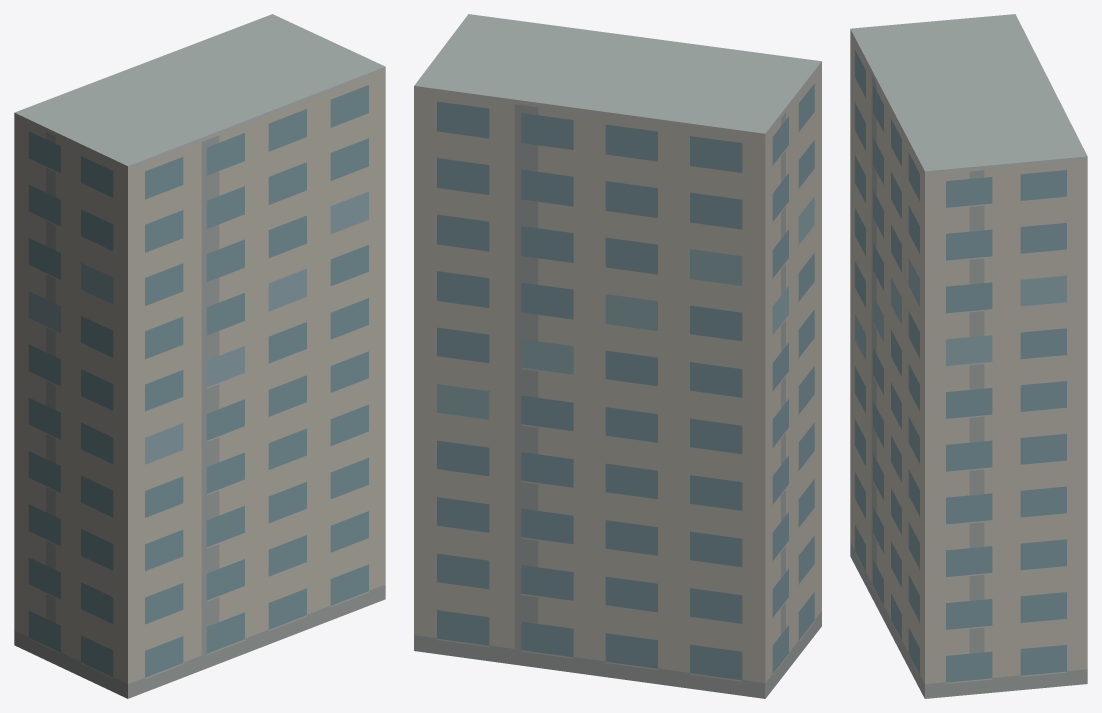
The model's file is survey-upis-32939297.glb.
3 renders of one model, left to right at view 1: azimuth 30°, elevation 25°; view 2: azimuth 150°, elevation 25°; view 3: azimuth 270°, elevation 25°, orthographic. The views are drawn at different scales.
Parts seen in each view (by area): view 1: survey-upis-32939297.tmp; view 2: survey-upis-32939297.tmp; view 3: survey-upis-32939297.tmp.
Part boxes in pixels (x1,y1,x2,y2): survey-upis-32939297.tmp: (14, 14, 385, 698); survey-upis-32939297.tmp: (414, 14, 821, 698); survey-upis-32939297.tmp: (850, 14, 1087, 698).
Size of the model in its own units: 19.04 by 29.75 by 12.15.
